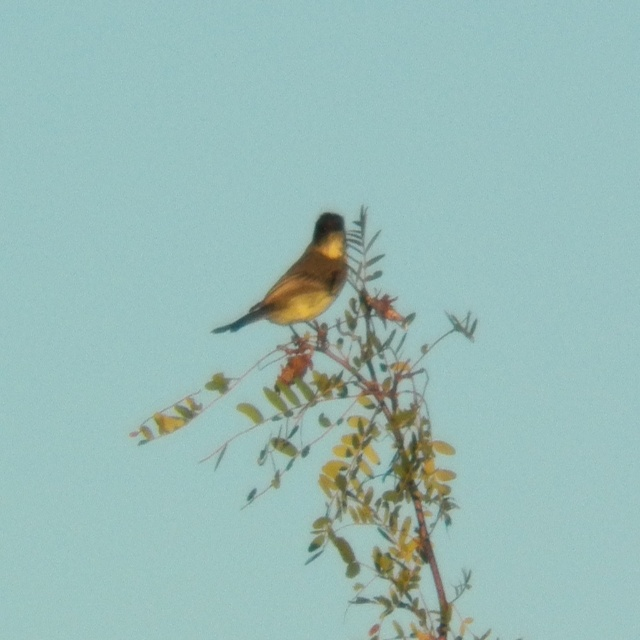Canary: (206, 204, 352, 364)
